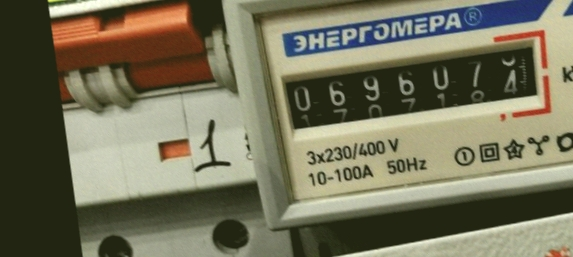0: (292, 81, 315, 114), (431, 59, 454, 92)
4: (499, 66, 522, 96)
6: (325, 75, 351, 108), (396, 66, 419, 96)
7: (466, 56, 487, 88)
9: (362, 72, 384, 103)
screen: (264, 22, 559, 150)
